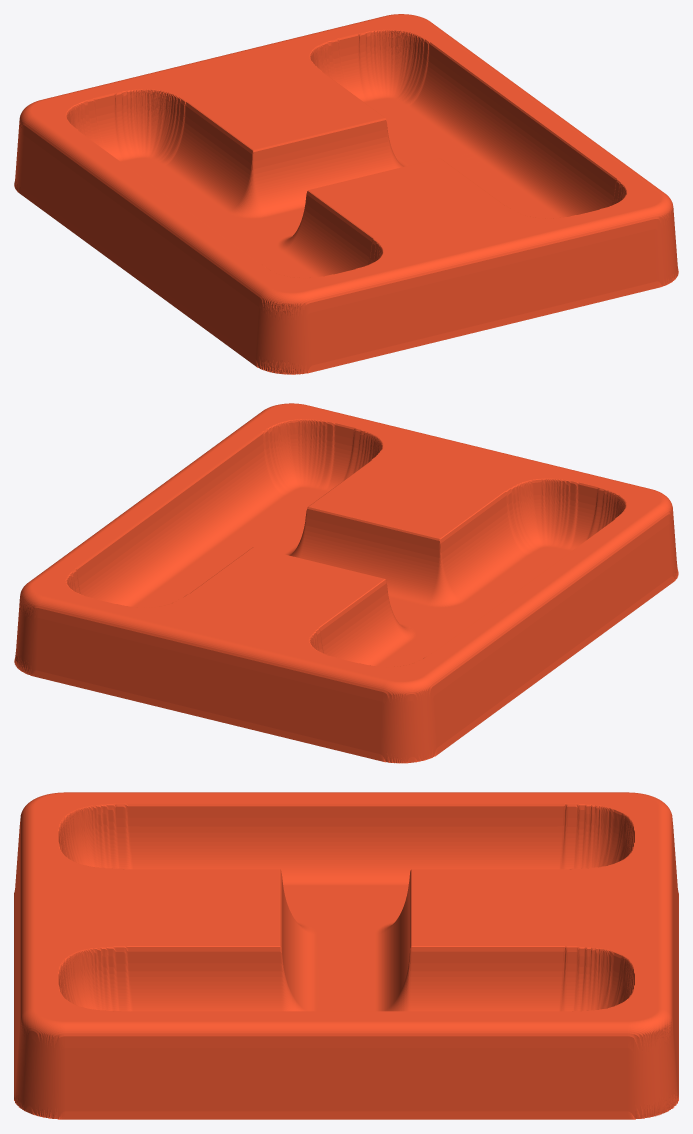
Rendered from mold.glb.
3 renders of one model, top to bottom at view 1: azimuth 30°, elevation 25°; view 2: azimuth 150°, elevation 25°; view 3: azimuth 270°, elevation 25°, orthographic. The views are drawn at different scales.
Parts seen in each view (by area): view 1: geometry_0; view 2: geometry_0; view 3: geometry_0.
Part boxes in pixels (box(x1,y1,x2,y2)): geometry_0: box(14, 14, 678, 374); geometry_0: box(14, 403, 678, 763); geometry_0: box(14, 792, 678, 1119).
Size of the model in its own units: 0.1026 by 0.0175 by 0.1178.
